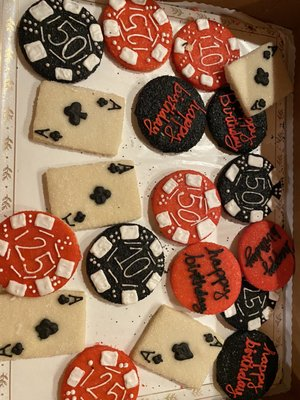salad: (167, 241, 243, 315)
